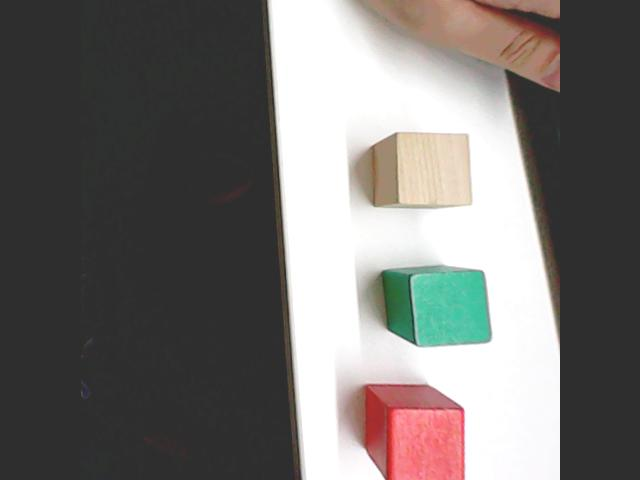green_box: (379, 262, 495, 350)
raw_box: (369, 129, 476, 211)
red_box: (361, 380, 470, 480)
